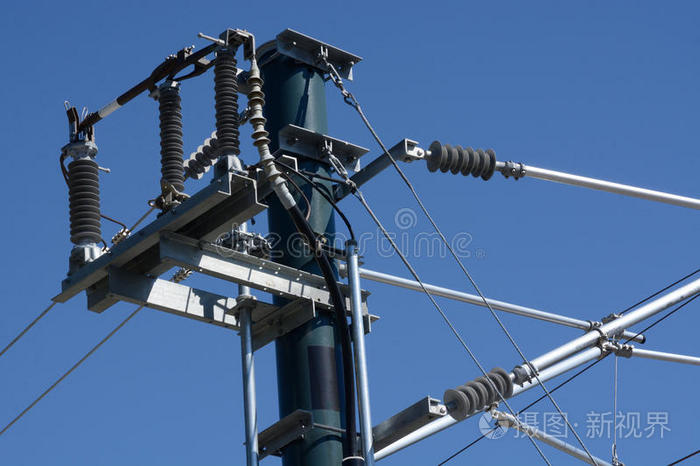insulator: (446, 363, 515, 418), (65, 158, 104, 243), (212, 56, 243, 151), (429, 139, 494, 183), (156, 91, 184, 188), (187, 134, 217, 180)
